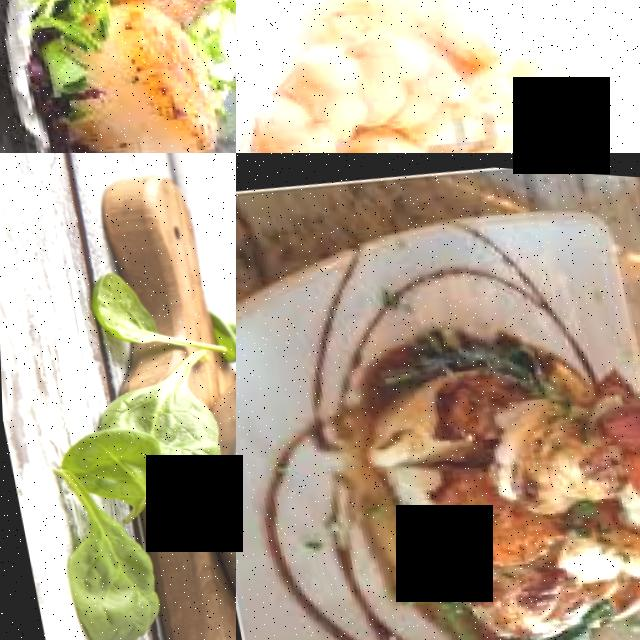sea scallops: (76, 29, 226, 153)
shrimp: (236, 33, 377, 153)
spinach: (47, 516, 168, 640), (140, 372, 229, 512), (63, 423, 160, 518), (82, 263, 162, 351)
